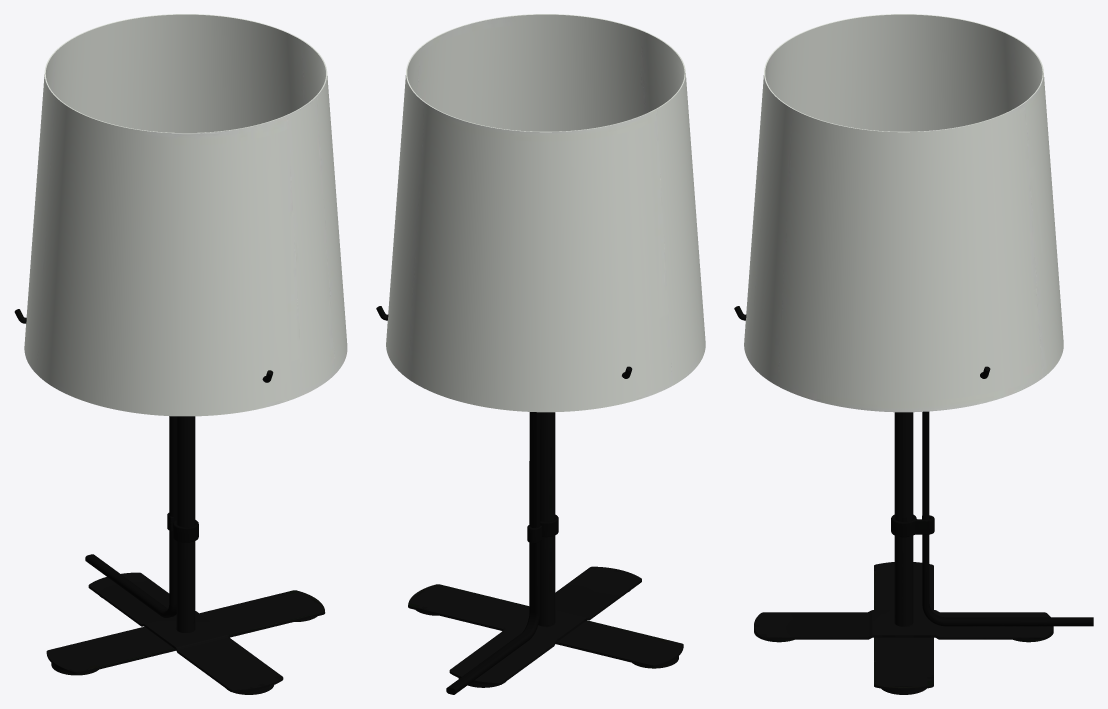
The picture shows the model from 3 angles, left to right: view 1: azimuth 30°, elevation 25°; view 2: azimuth 150°, elevation 25°; view 3: azimuth 270°, elevation 25°; orthographic projection.
Visible parts, largest first — view 1: 00504557-BARLAST001; view 2: 00504557-BARLAST001; view 3: 00504557-BARLAST001.
Boxes of the visible parts, <box> form: 00504557-BARLAST001: <box>14,14,347,694</box>; 00504557-BARLAST001: <box>376,14,705,694</box>; 00504557-BARLAST001: <box>734,14,1093,694</box>.
Size of the model in its own units: 0.16 by 0.3084 by 0.1799.
Materials: 1 (1 with a texture image).
